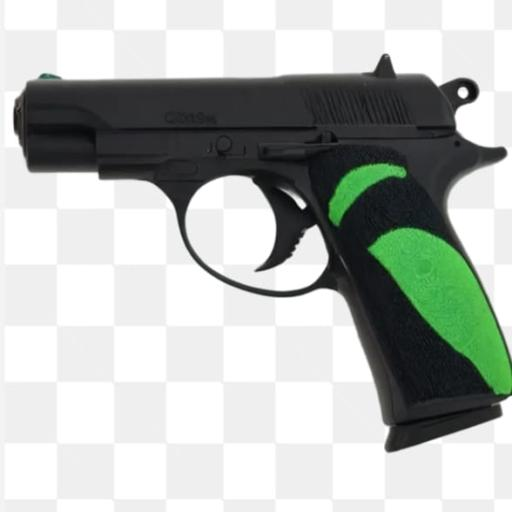Gun: (15, 54, 511, 449)
